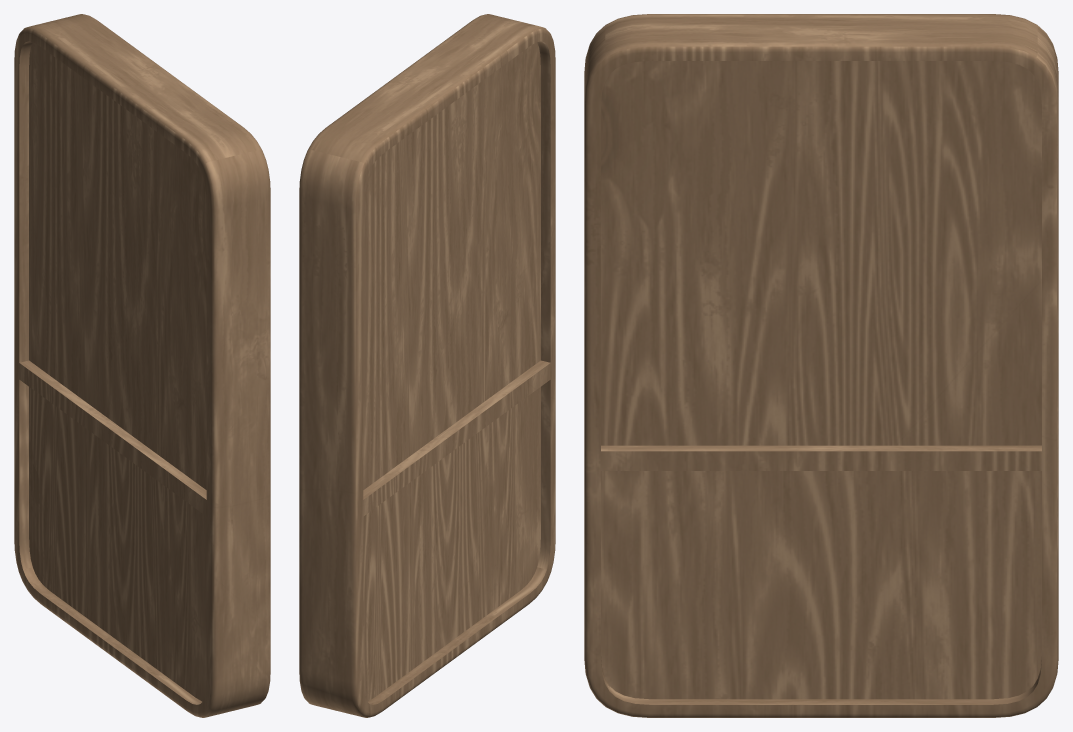
File: PinePanel.gltf
The picture shows the model from 3 angles, left to right: view 1: azimuth 30°, elevation 25°; view 2: azimuth 150°, elevation 25°; view 3: azimuth 270°, elevation 25°; orthographic projection. The views are drawn at different scales.
Visible parts, largest first — view 1: Box001; view 2: Box001; view 3: Box001.
Boxes of the visible parts, bbox=[...] form: Box001: bbox=[14, 14, 270, 717]; Box001: bbox=[299, 14, 555, 717]; Box001: bbox=[584, 14, 1058, 717].
Bounding box in the file's own units: 0.0478 × 0.4428 × 0.2824.
Materials: 1 (1 with a texture image).
